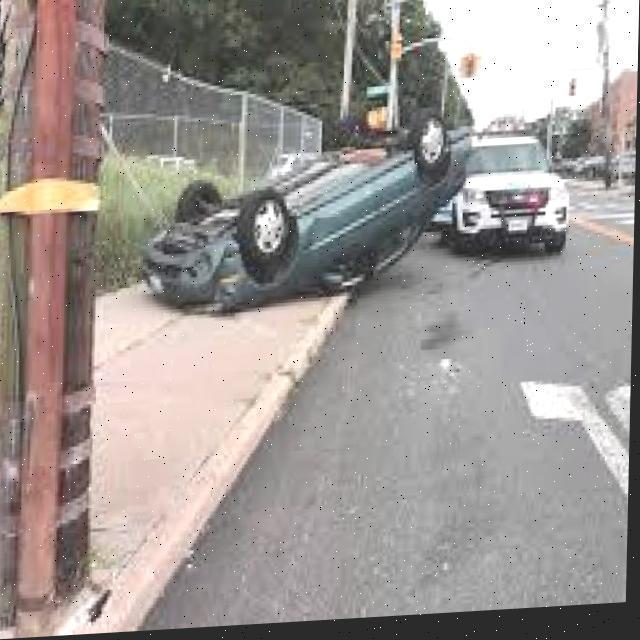normal: (423, 98, 577, 278)
single accident: (125, 85, 513, 335)
